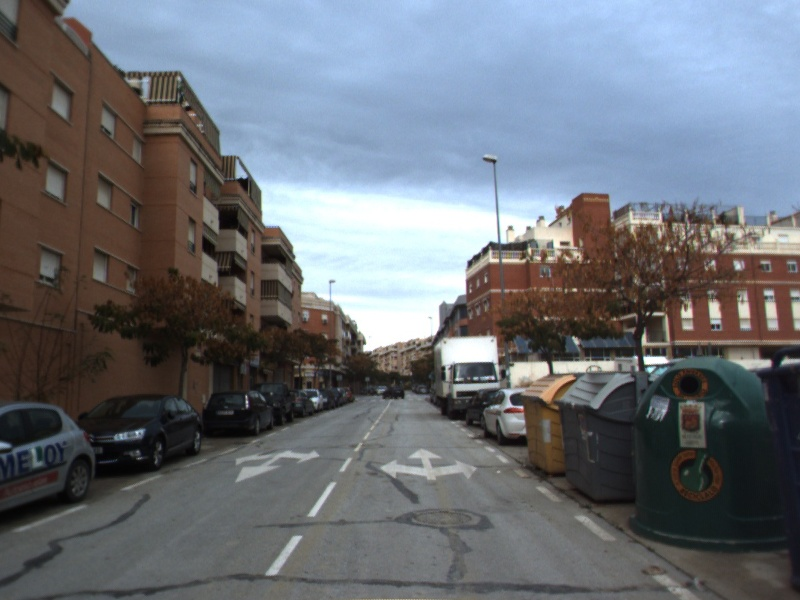STRAIGHT_LEFT_RIGHT: (378, 445, 479, 482)
